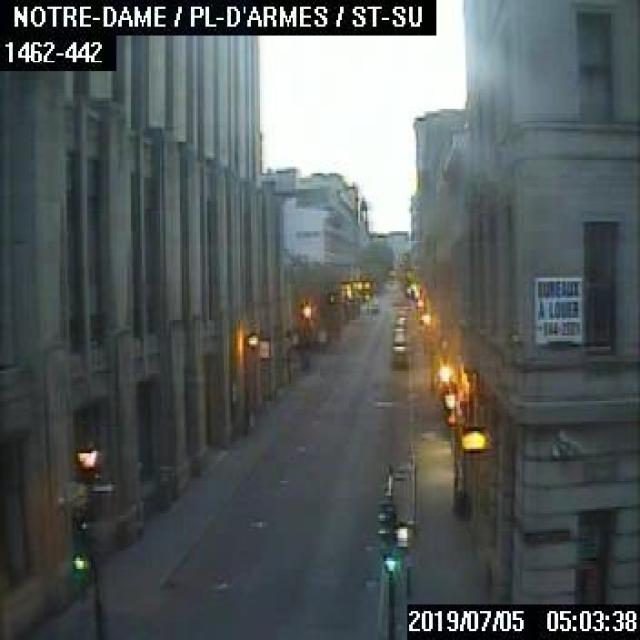vehicle: (390, 342, 407, 369), (392, 326, 406, 346)
